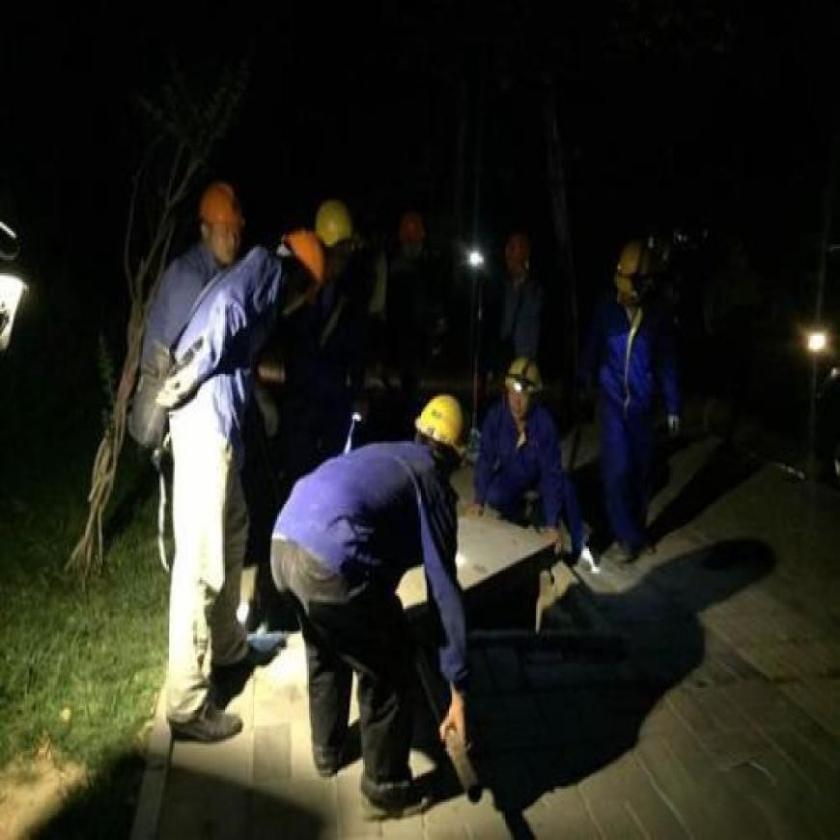Con_casco: (193, 177, 252, 276), (500, 363, 546, 434)
